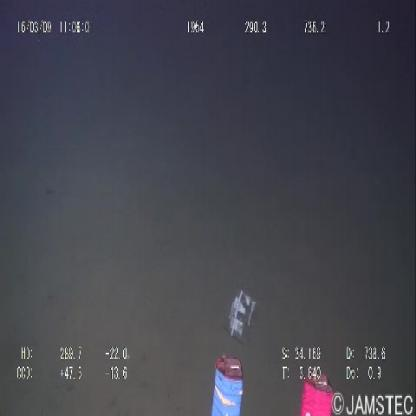Rov: (208, 348, 335, 416)
Rác: (225, 284, 260, 346)
